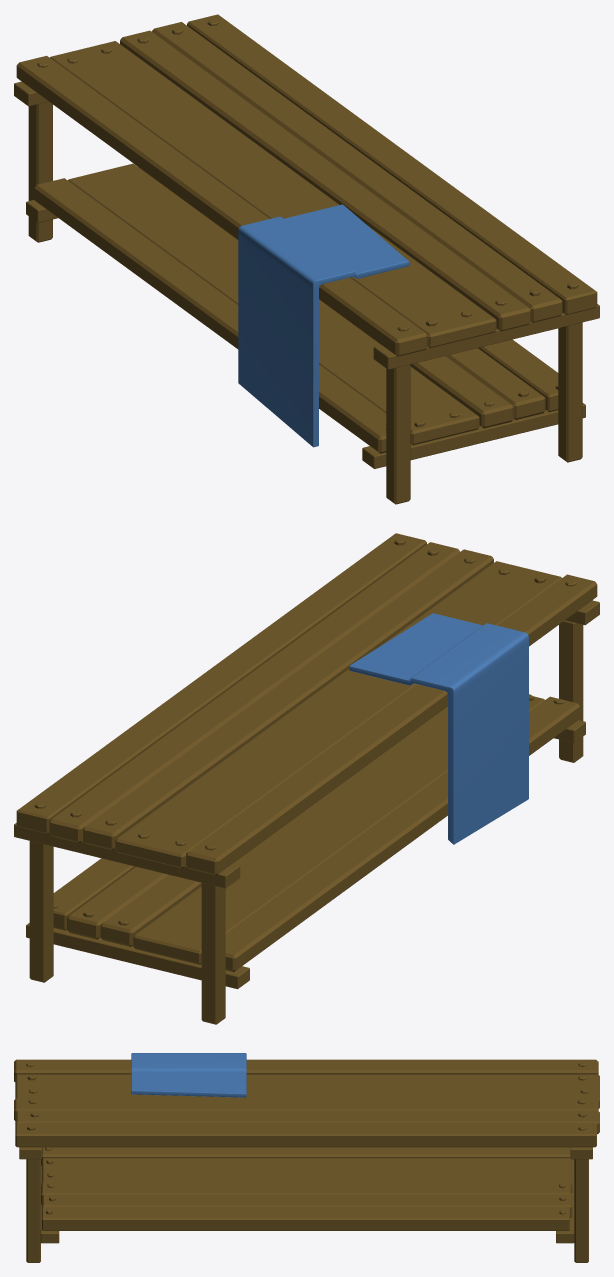
Rendered from giant2bench.fbx.
The picture shows the model from 3 angles, top to bottom: view 1: azimuth 30°, elevation 25°; view 2: azimuth 150°, elevation 25°; view 3: azimuth 270°, elevation 25°; orthographic projection. The views are drawn at different scales.
Parts seen in each view (by area): view 1: pasted__polySurface316; view 2: pasted__polySurface316; view 3: pasted__polySurface316.
Boxes of the visible parts, <box> form: pasted__polySurface316: <box>14,14,599,504</box>; pasted__polySurface316: <box>14,533,599,1024</box>; pasted__polySurface316: <box>14,1053,599,1262</box>.
Size of the model in its own units: 3.3 by 2.61 by 10.21.
